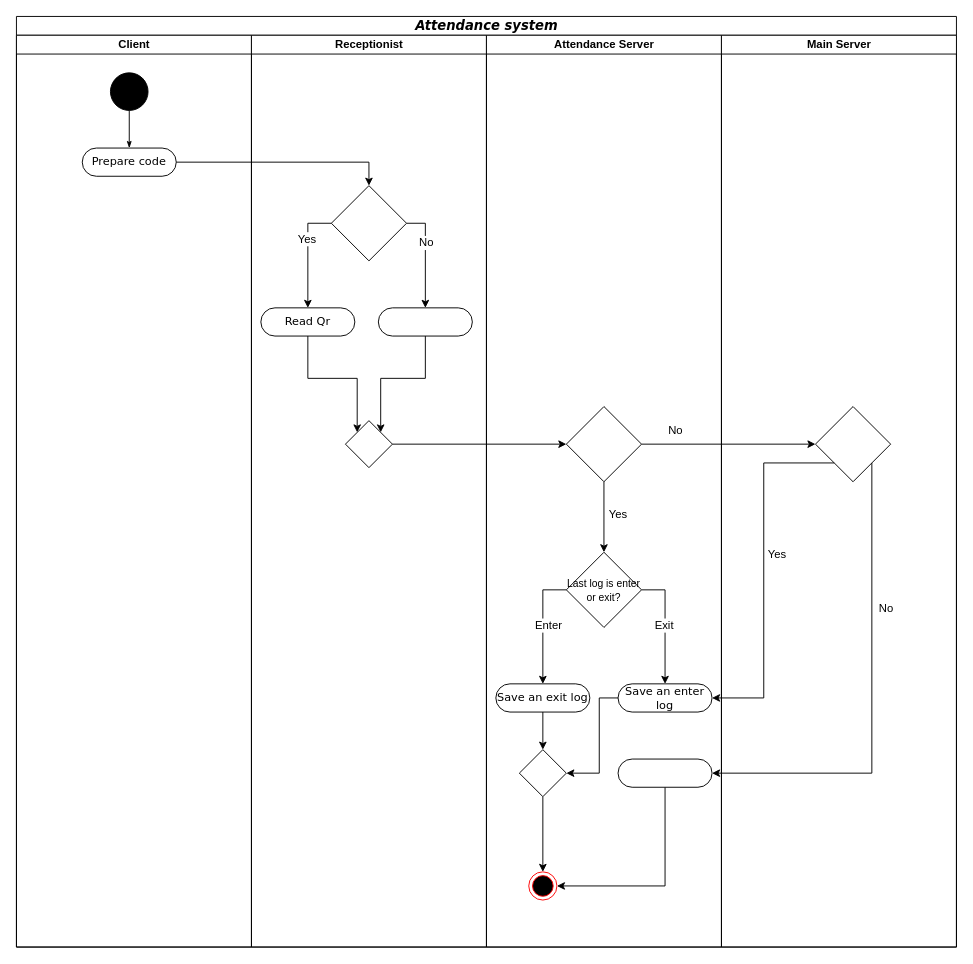
This 973x964 diagram has some shape labels left out. Each missing label, with the centre of its shape:
"Enter code" goes at (x=424, y=321).
"Entity exist?" goes at (x=853, y=444).
"Entity exists?" goes at (x=603, y=444).
"is Qr?" goes at (x=368, y=223).
"Show an error that entity doesnt exist" goes at (x=664, y=772).
